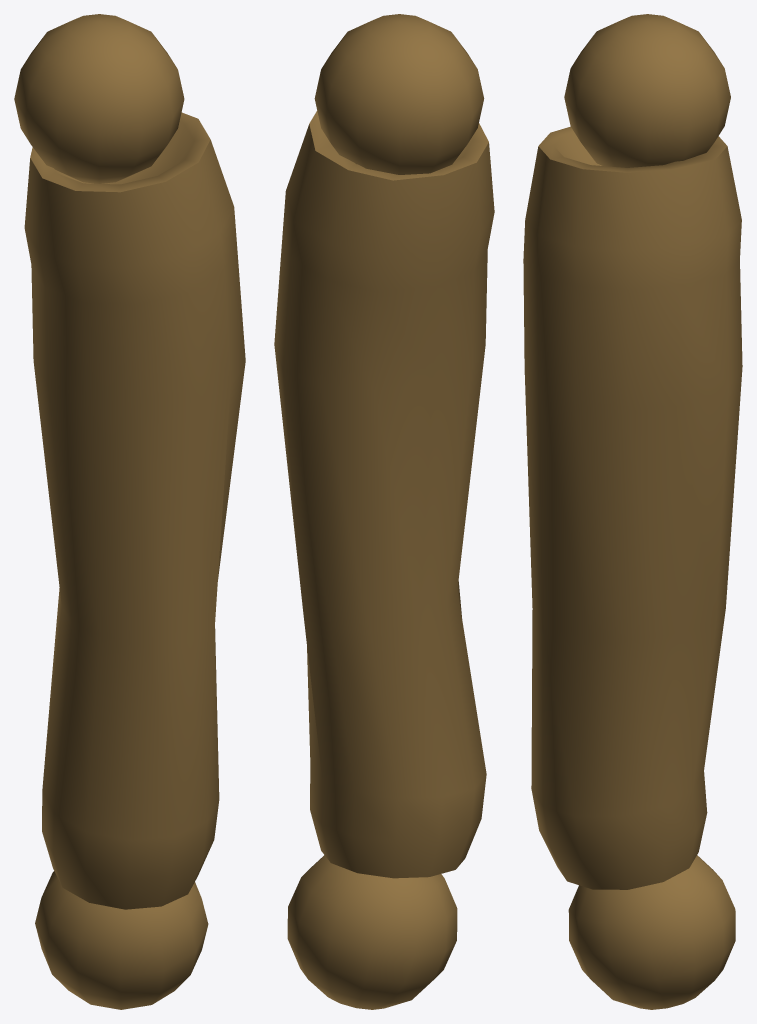
The model's file is piezas_pierna3.fbx.
The picture shows the model from 3 angles, left to right: view 1: azimuth 30°, elevation 25°; view 2: azimuth 150°, elevation 25°; view 3: azimuth 270°, elevation 25°; orthographic projection. The views are drawn at different scales.
Parts seen in each view (by area): view 1: dummy_obj.013; view 2: dummy_obj.013; view 3: dummy_obj.013.
Part boxes in pixels (box(x1,y1,x2,y2)): dummy_obj.013: box(14, 14, 245, 1009); dummy_obj.013: box(274, 14, 494, 1009); dummy_obj.013: box(523, 14, 742, 1009).
Size of the model in its own units: 10.62 by 51.26 by 10.52.
